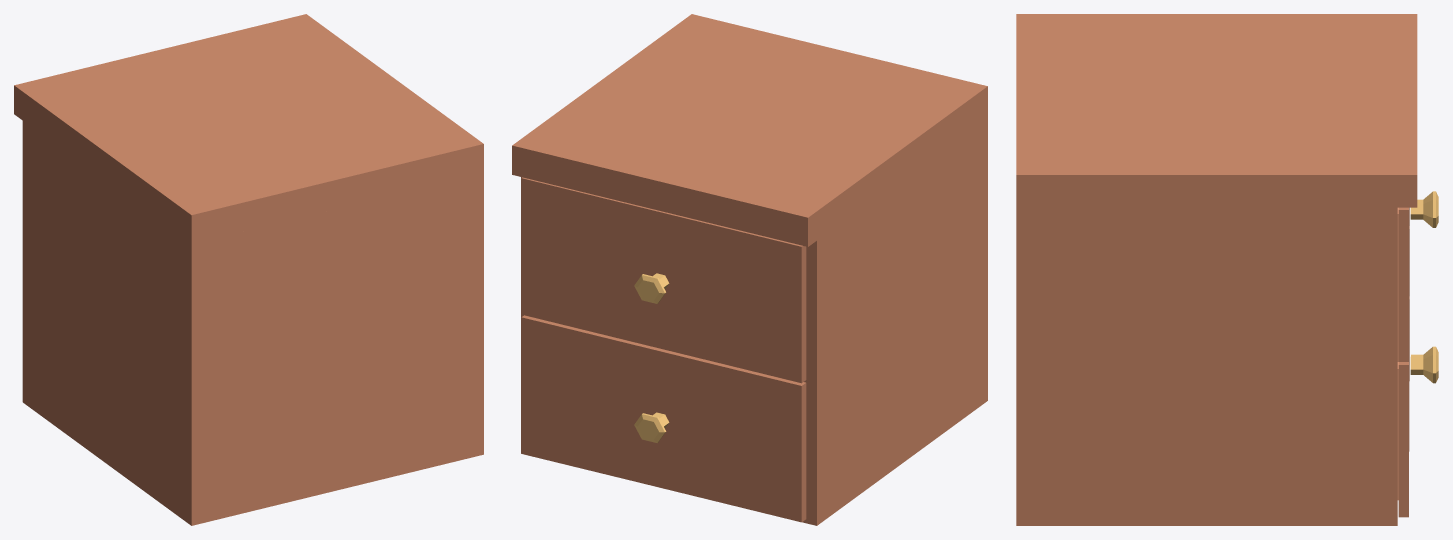
Rendered from Night_stand.fbx.
The picture shows the model from 3 angles, left to right: view 1: azimuth 30°, elevation 25°; view 2: azimuth 150°, elevation 25°; view 3: azimuth 270°, elevation 25°; orthographic projection. The views are drawn at different scales.
Parts seen in each view (by area): view 1: Plane.313; view 2: Plane.313, Plane.183, Plane.182; view 3: Plane.313, Plane.183, Plane.182.
Part boxes in pixels (bbox=[...]): Plane.313: bbox=[14, 14, 483, 525]; Plane.313: bbox=[512, 14, 987, 525]; Plane.183: bbox=[521, 315, 806, 522]; Plane.182: bbox=[521, 177, 806, 383]; Plane.313: bbox=[1016, 14, 1417, 525]; Plane.183: bbox=[1397, 226, 1438, 517]; Plane.182: bbox=[1397, 191, 1438, 361].
Size of the model in its own units: 0.8241 by 0.9128 by 0.8371.
